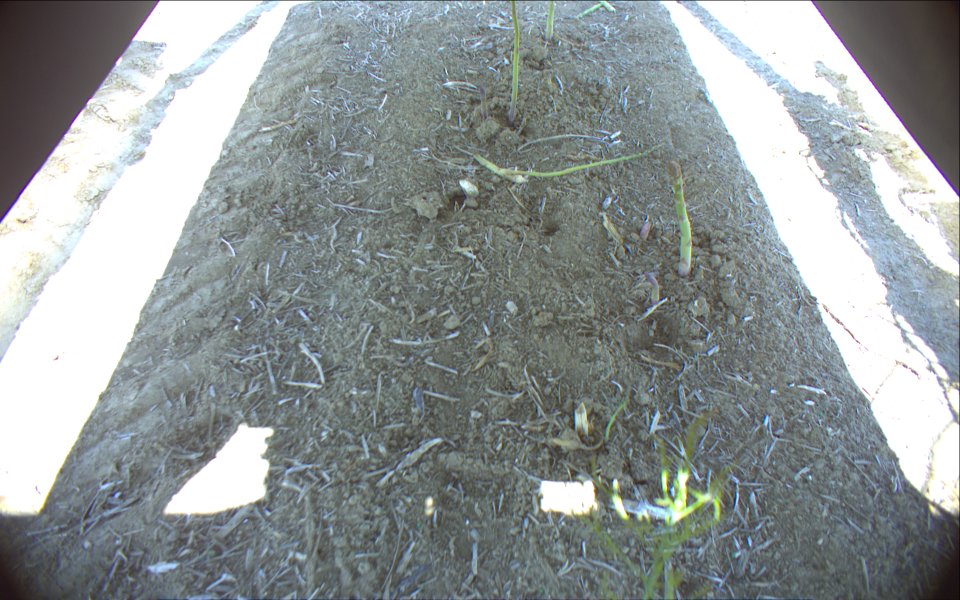aspa: (666, 156, 697, 280), (504, 1, 523, 125), (542, 1, 559, 46)
